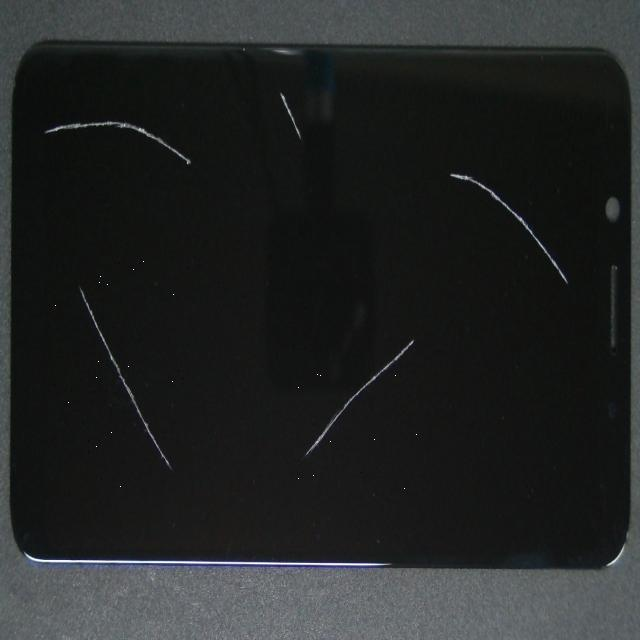scratch: (145, 250, 436, 640), (49, 117, 102, 396)
